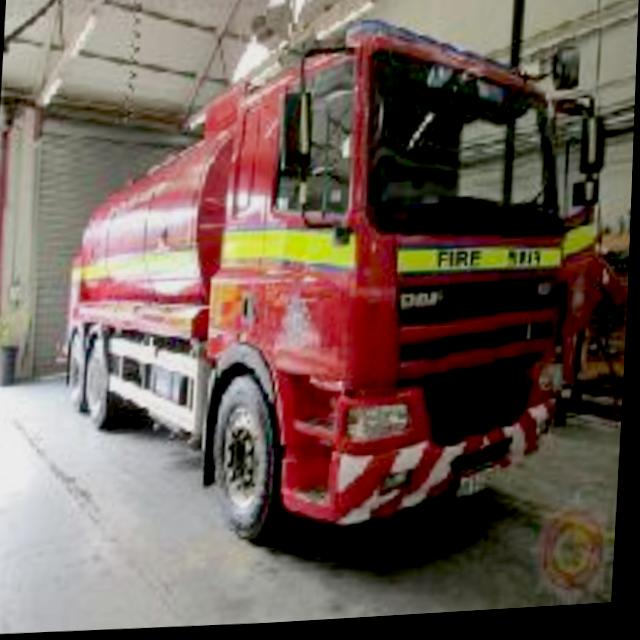emergency: (8, 22, 586, 538)
